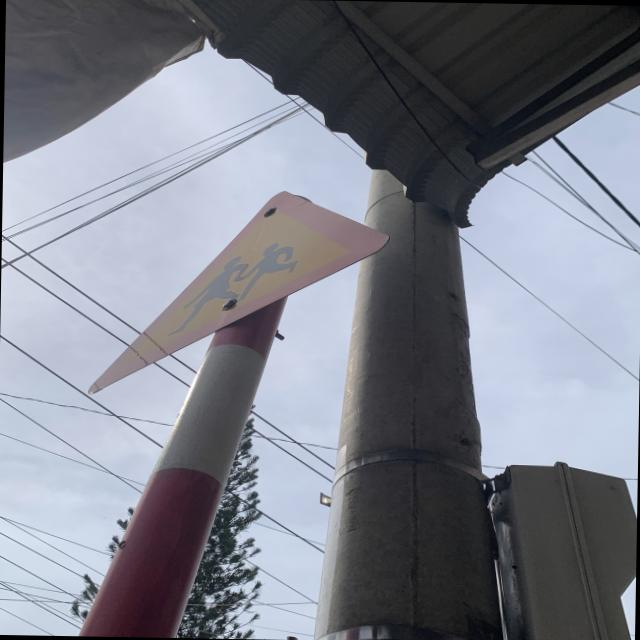Vong_Xuyen: (86, 186, 392, 399)
